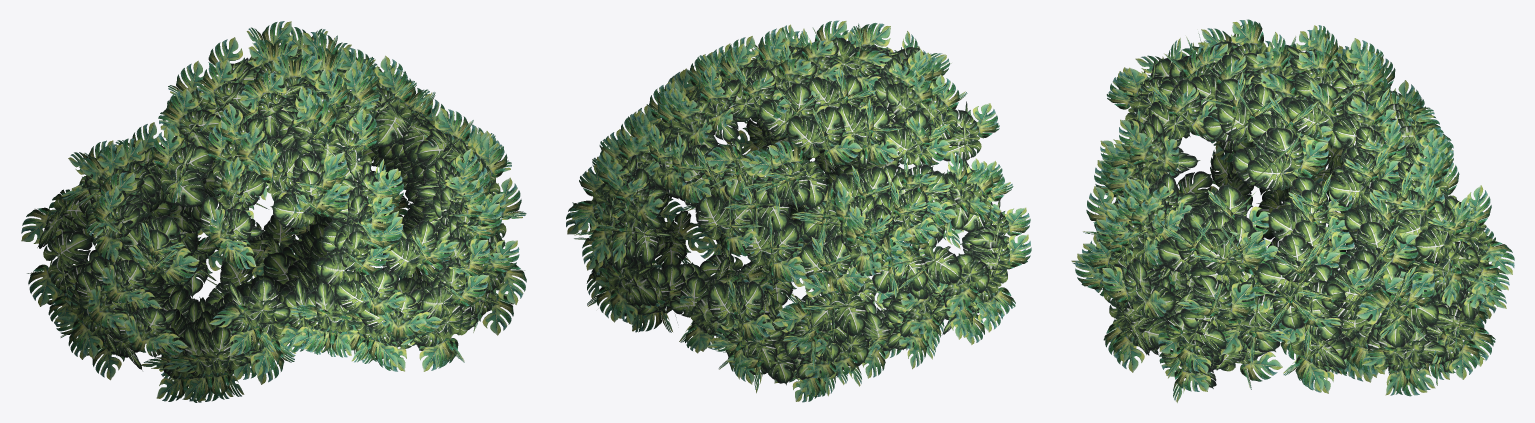
The model's file is Tree2Top.fbx.
3 views of the same model, side by side, from view 1: azimuth 30°, elevation 25°; view 2: azimuth 150°, elevation 25°; view 3: azimuth 270°, elevation 25° (orthographic). The views are drawn at different scales.
Visible parts, largest first — view 1: Leaf2; view 2: Leaf2; view 3: Leaf2.
Part boxes in pixels (x1=…): Leaf2: x1=21, y1=21, x2=526, y2=402; Leaf2: x1=566, y1=20, x2=1031, y2=402; Leaf2: x1=1071, y1=19, x2=1514, y2=402.
Bounding box in the file's own units: 25.23 × 19.26 × 22.3.
